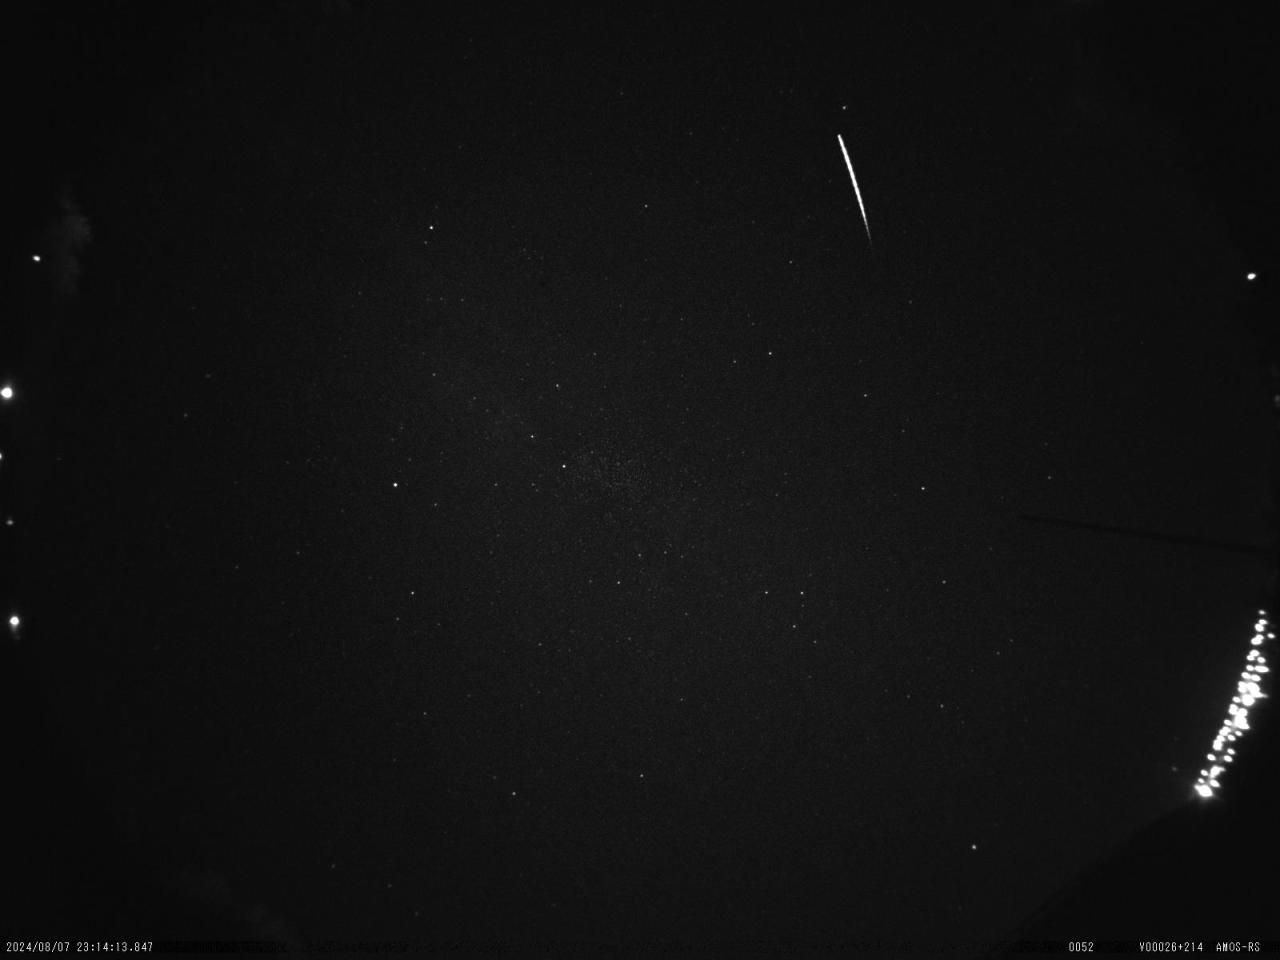Meteor: (833, 131, 873, 244)
